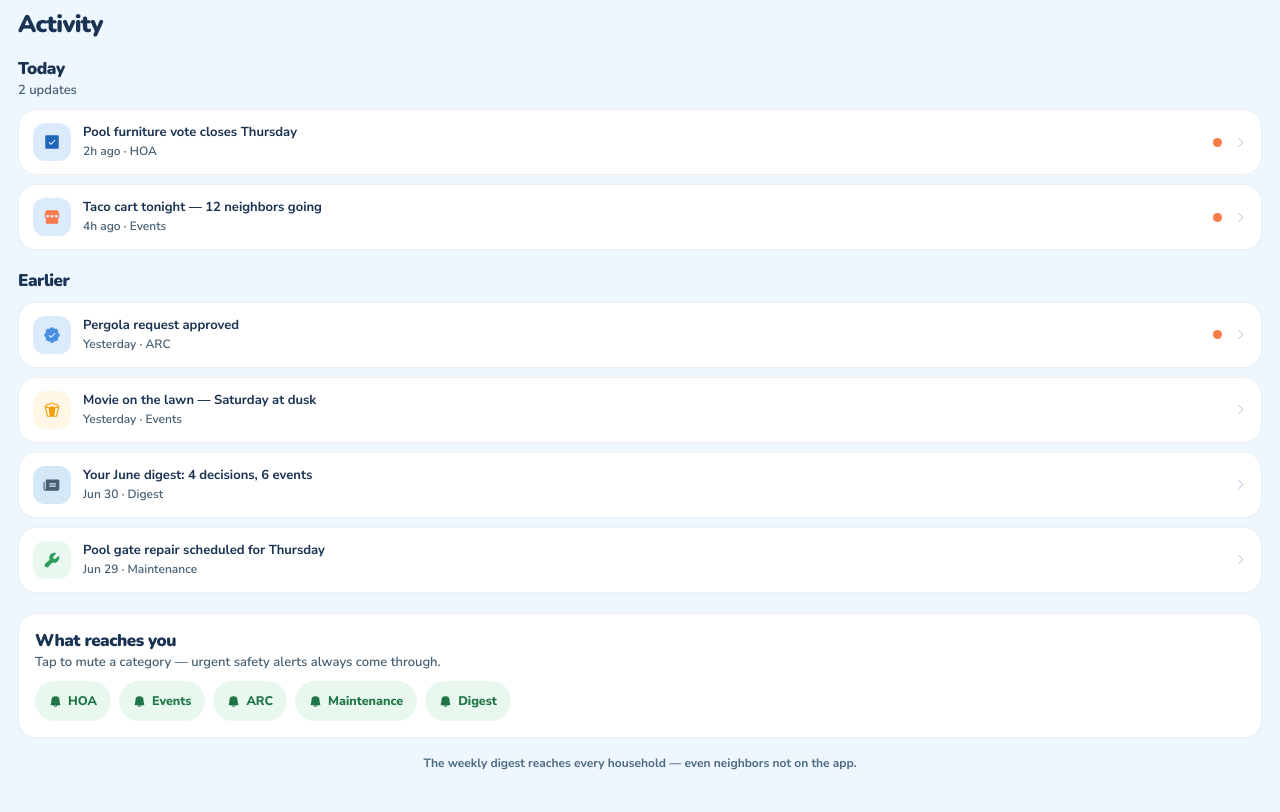
Test: muting a category hides its notifications
The width and height of the screenshot is (1280, 812).
(page scrolled)
Check: the text "Pool furniture vote closes Thursday" is shown, box [83, 124, 297, 142]
Click the button "HOA".
click(73, 701)  # box [35, 681, 111, 721]
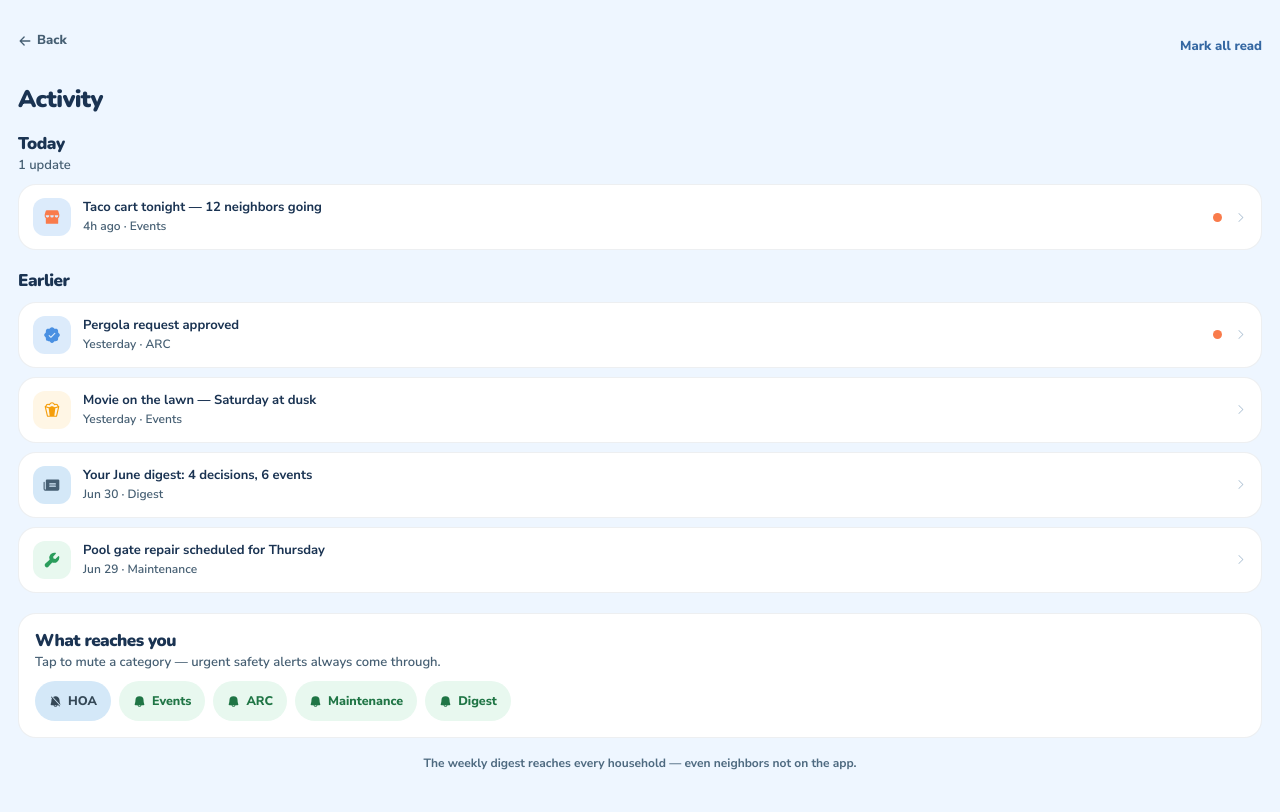
Check: the button "Pool furniture vote closes Thursday" is gone
